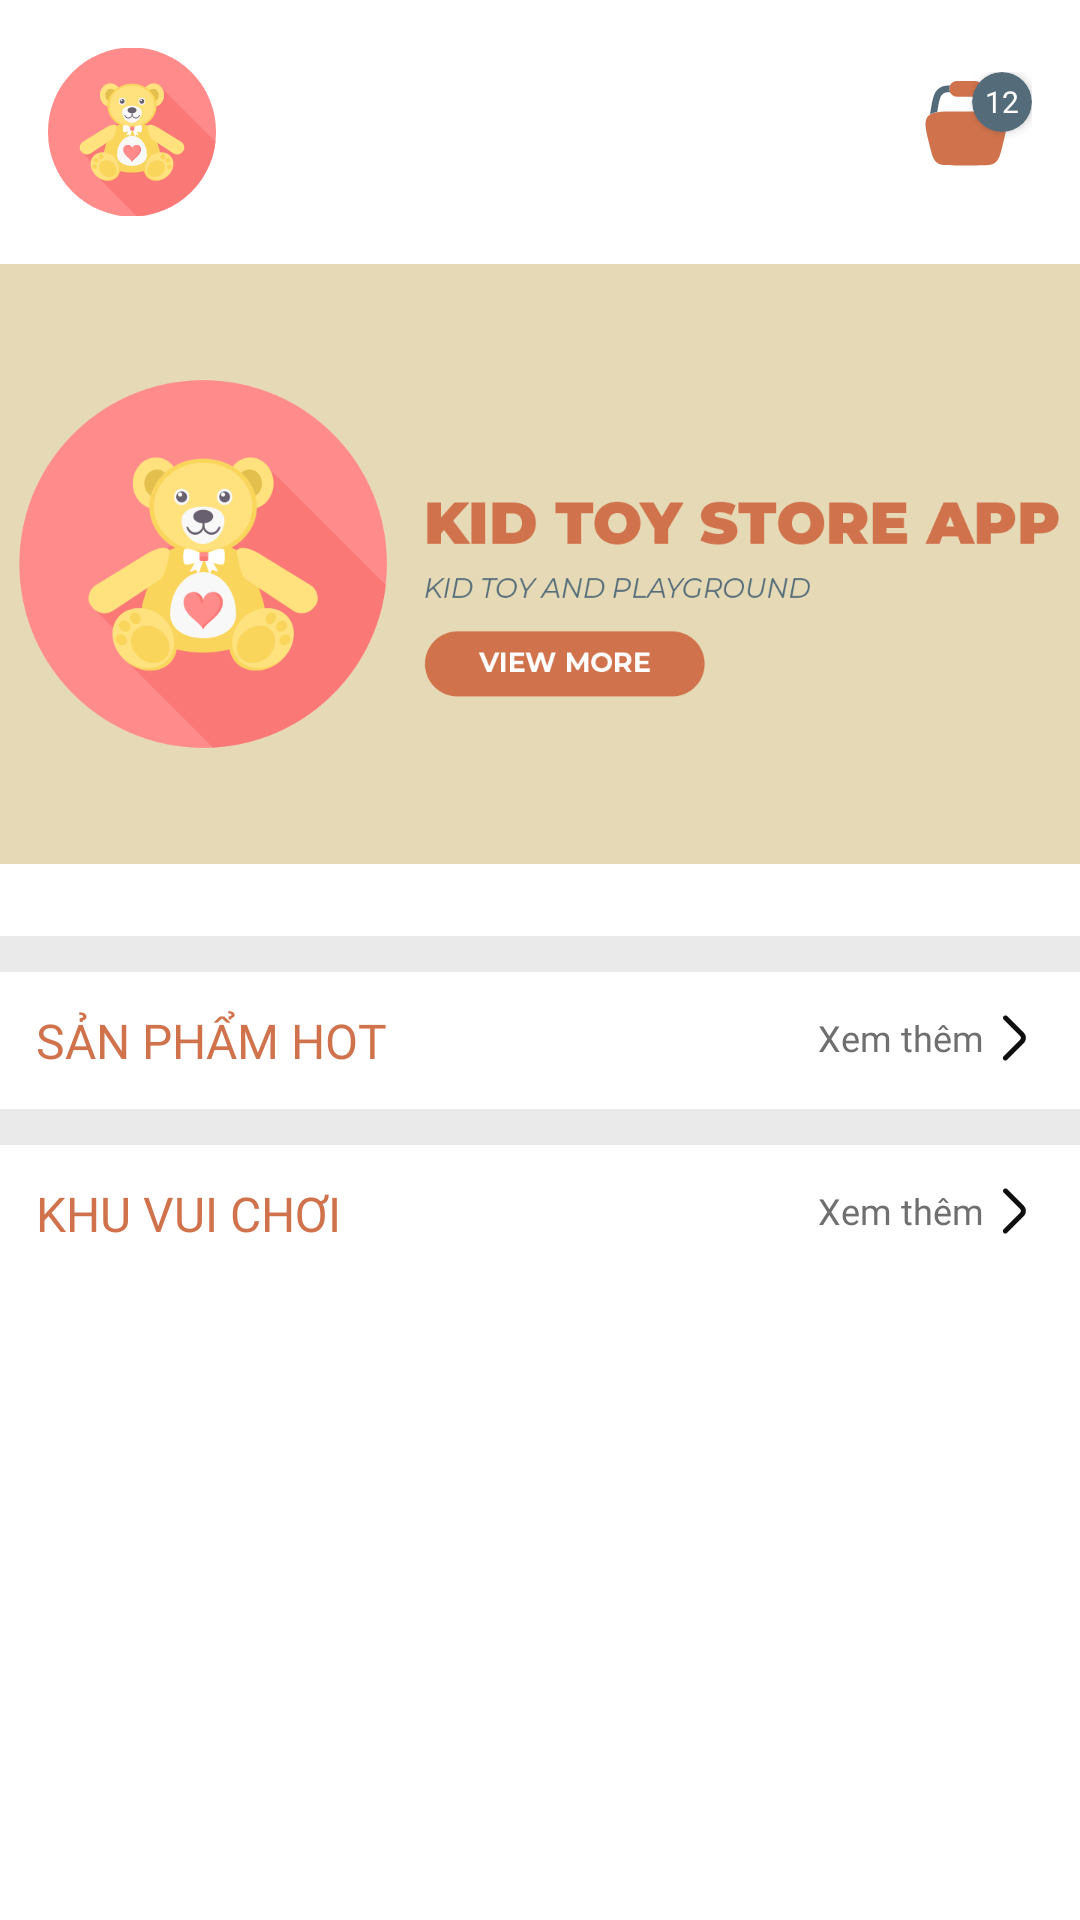

Where icons sit on this 1080*1920 app screen, as (x1, y1, x2, y2):
Cart: (925, 72, 1020, 166)
next: (1003, 1015, 1026, 1061), (1003, 1188, 1026, 1234)
